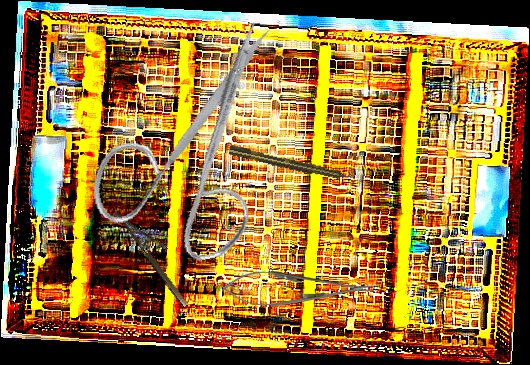Handpiece: (228, 143, 356, 185)
Iris Scissors: (64, 16, 314, 279)
Needle Holder: (112, 199, 202, 309), (222, 271, 373, 307)
